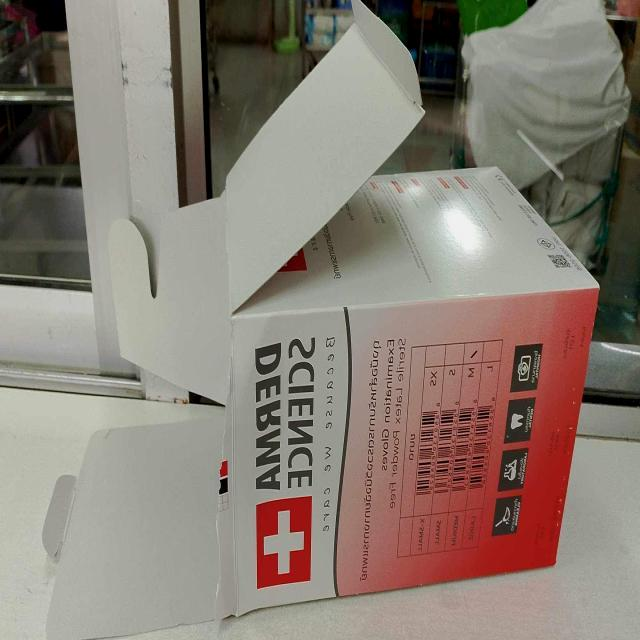General: (41, 2, 605, 636), (218, 162, 602, 618)
Sharps: (516, 127, 567, 182)
